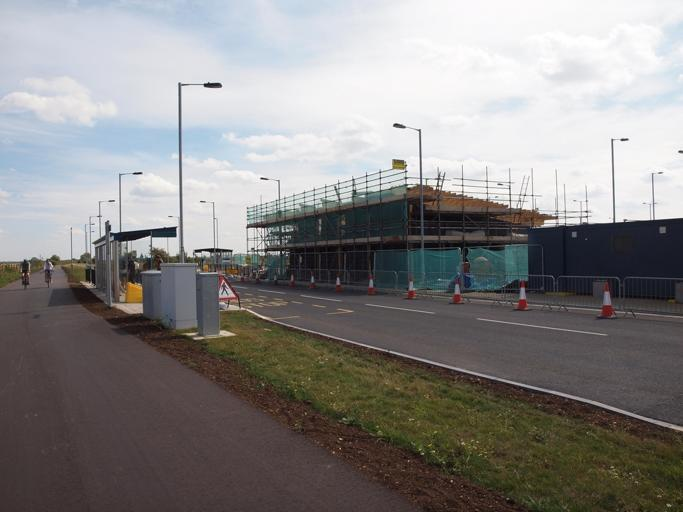non-vehicle: (44, 269, 53, 287), (21, 270, 29, 289)
